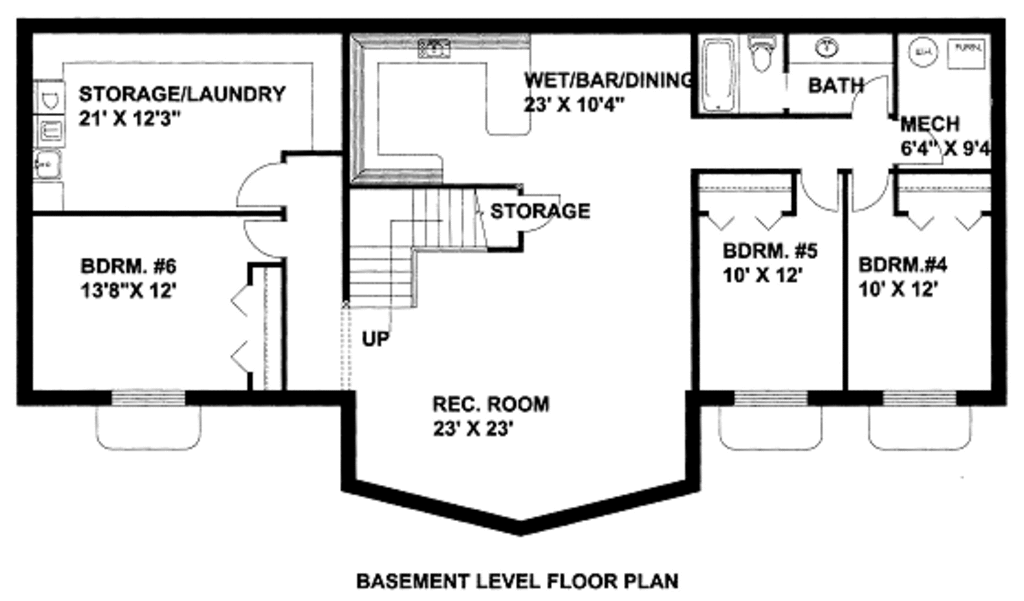door: (231, 158, 286, 211), (901, 119, 947, 167), (239, 220, 291, 262), (851, 75, 895, 123), (851, 169, 892, 218), (520, 189, 562, 233), (801, 171, 843, 212)
large_sink: (745, 34, 775, 72), (32, 152, 66, 181)
small_sink: (793, 33, 890, 67)
stairs: (343, 180, 516, 325)
tub: (699, 31, 742, 114)
window: (727, 384, 814, 409), (880, 386, 960, 413), (104, 385, 187, 410)
